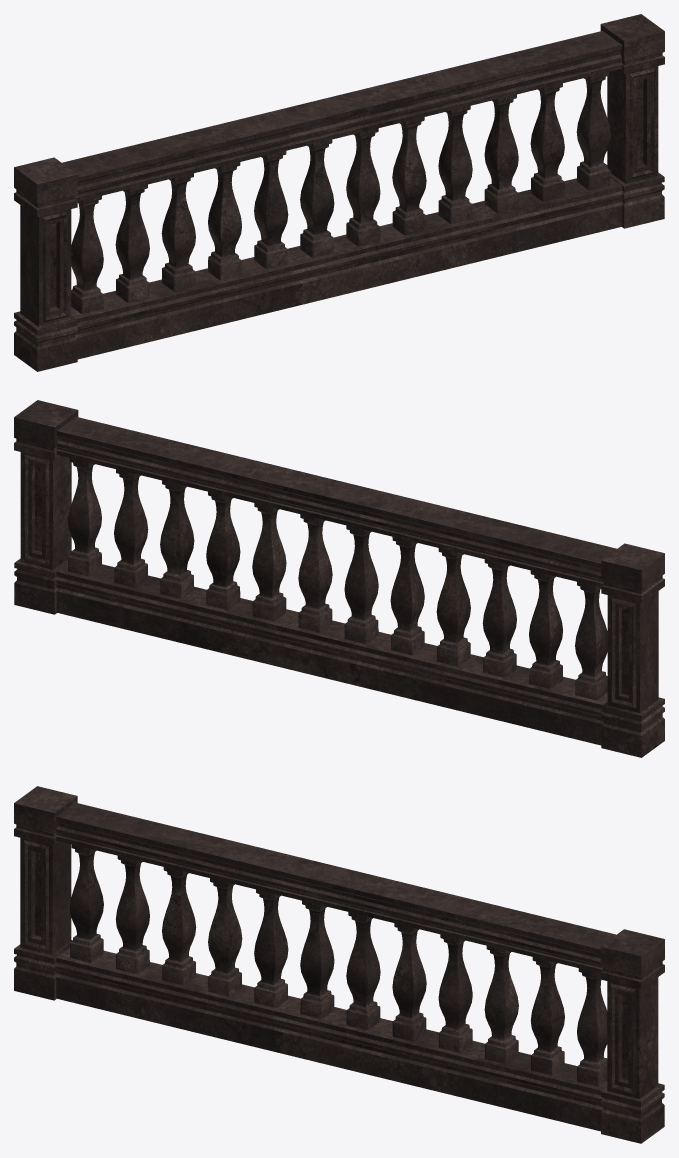
The model's file is SK3 RAILING LONG.fbx.
3 views of the same model, one above another, from view 1: azimuth 30°, elevation 25°; view 2: azimuth 150°, elevation 25°; view 3: azimuth 330°, elevation 25° (orthographic).
Parts seen in each view (by area): view 1: SK3 RAILING LONG; view 2: SK3 RAILING LONG; view 3: SK3 RAILING LONG.
Part boxes in pixels (x1,y1,x2,y2): SK3 RAILING LONG: (14,14,664,371); SK3 RAILING LONG: (14,400,664,757); SK3 RAILING LONG: (14,786,664,1143).
Size of the model in its own units: 400 by 114 by 26.11.
